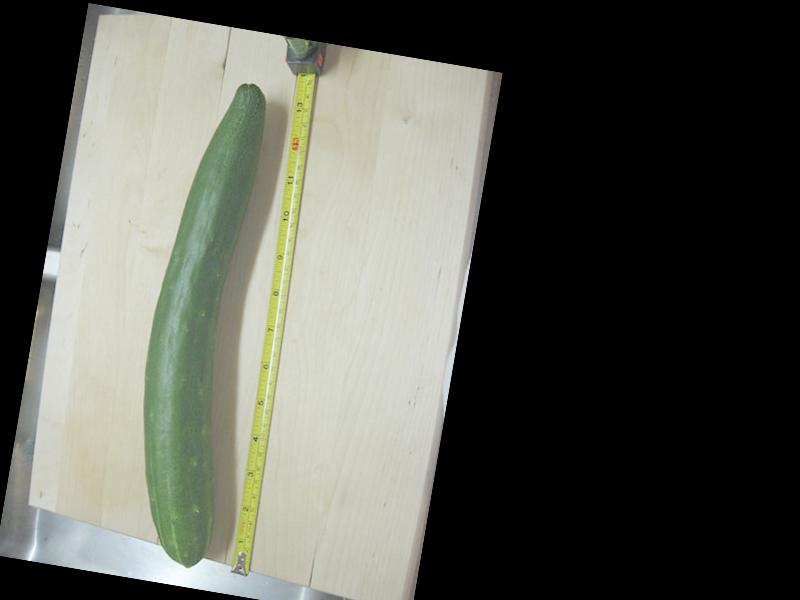Cucumber: (113, 73, 287, 571)
